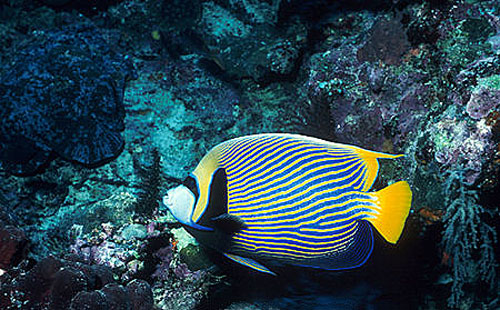Pomacanthus_imperator: (149, 122, 413, 296)
